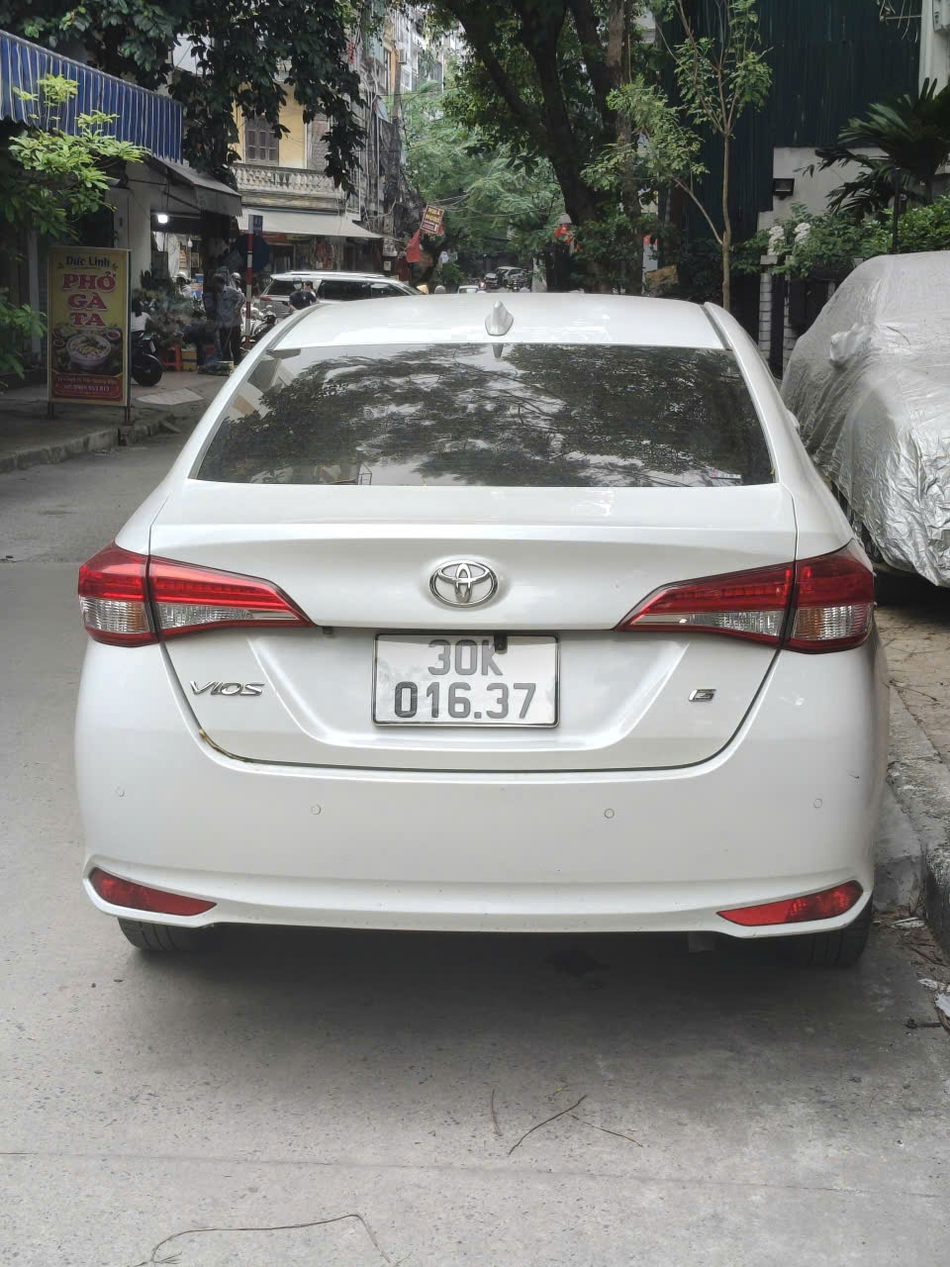plate: (276, 342, 430, 375)
